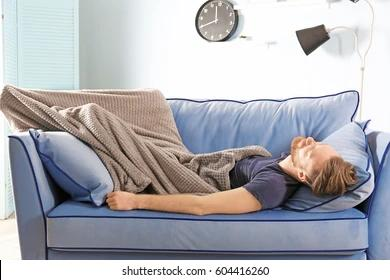blanket: (0, 83, 273, 197)
short sleeve shirt: (229, 153, 302, 211)
